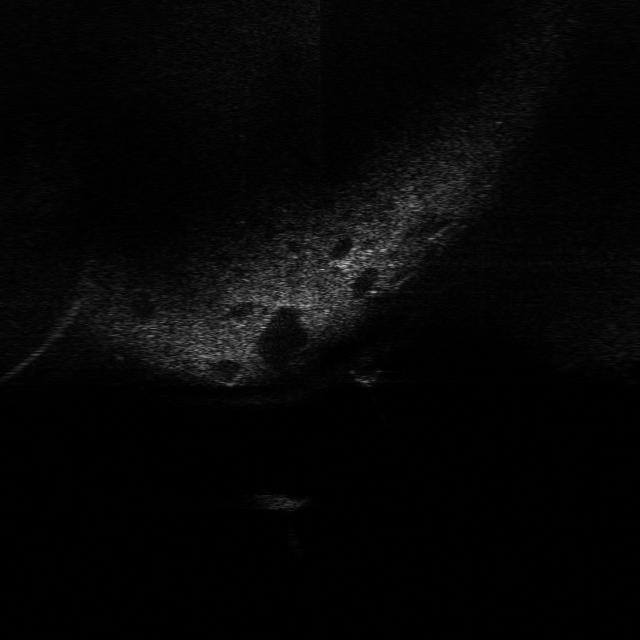ball: (343, 354, 386, 388)
cube: (244, 488, 314, 517)
